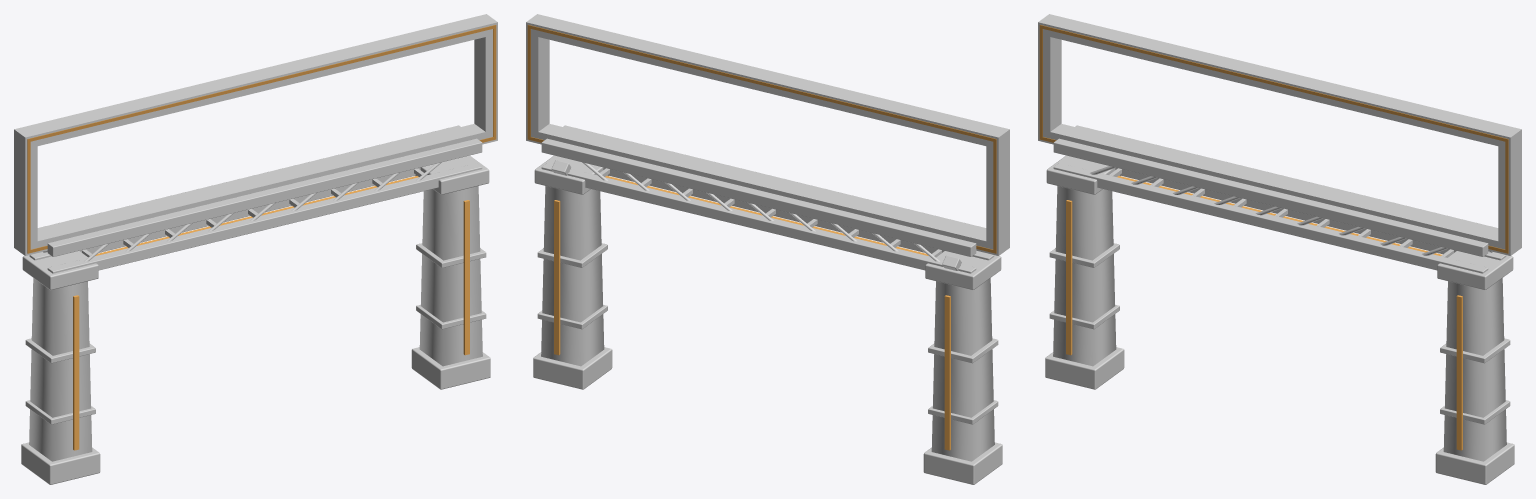
Rendered from ZoneGateArch.glb.
3 views of the same model, side by side, from view 1: azimuth 30°, elevation 25°; view 2: azimuth 150°, elevation 25°; view 3: azimuth 330°, elevation 25° (orthographic).
Parts seen in each view (by area): view 1: Body, Frame, Glow; view 2: Body, Frame, Glow; view 3: Body, Frame, Glow.
Part boxes in pixels (<box>): Body: <box>14,14,497,484</box>; Frame: <box>27,25,496,253</box>; Glow: <box>73,176,469,450</box>; Body: <box>526,14,1009,484</box>; Frame: <box>527,25,996,253</box>; Glow: <box>554,176,950,450</box>; Body: <box>1038,14,1521,484</box>; Frame: <box>1039,25,1508,253</box>; Glow: <box>1066,176,1462,450</box>.
Size of the model in its own units: 48.4 by 33.76 by 5.75.
